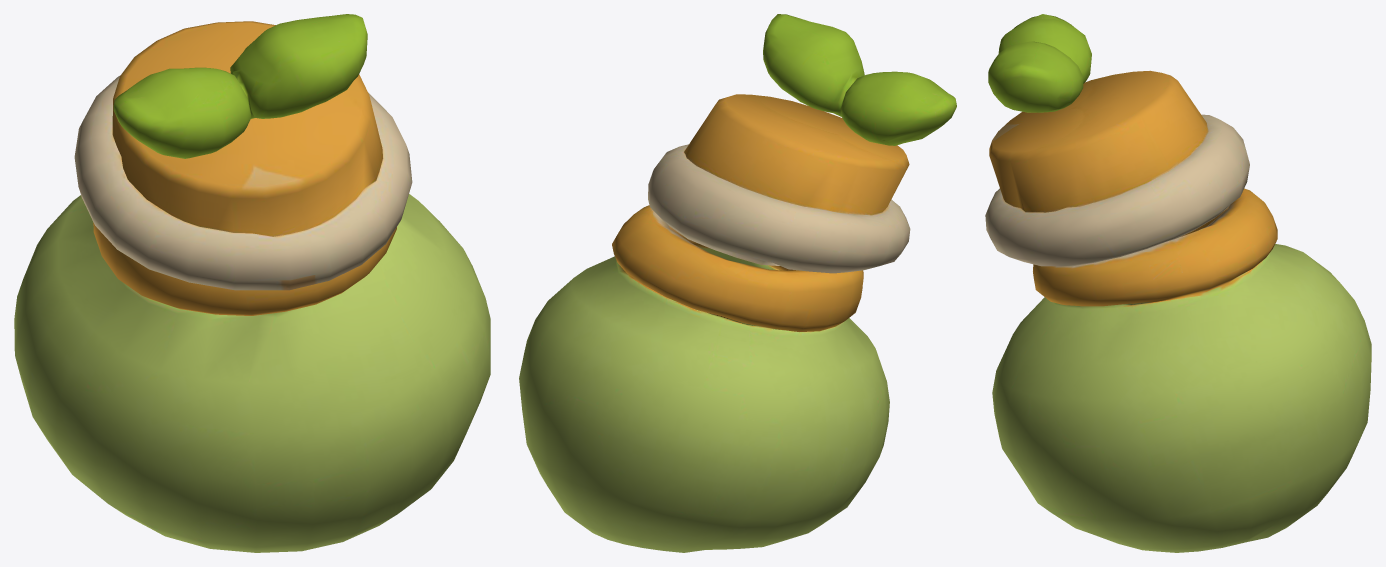
Rendered from selected.fbx.
3 renders of one model, left to right at view 1: azimuth 30°, elevation 25°; view 2: azimuth 150°, elevation 25°; view 3: azimuth 270°, elevation 25°, orthographic. The views are drawn at different scales.
Visible parts, largest first — view 1: tripo_node_d89f2c11-df20-47db-b853-724509f7aec8; view 2: tripo_node_d89f2c11-df20-47db-b853-724509f7aec8; view 3: tripo_node_d89f2c11-df20-47db-b853-724509f7aec8.
Part boxes in pixels (left/top/right/bottom): tripo_node_d89f2c11-df20-47db-b853-724509f7aec8: left=14, top=14, right=490, bottom=552; tripo_node_d89f2c11-df20-47db-b853-724509f7aec8: left=519, top=14, right=956, bottom=552; tripo_node_d89f2c11-df20-47db-b853-724509f7aec8: left=985, top=14, right=1371, bottom=552.
Size of the model in its own units: 0.7832 by 0.998 by 0.7637.
1 material, 1 textured.
